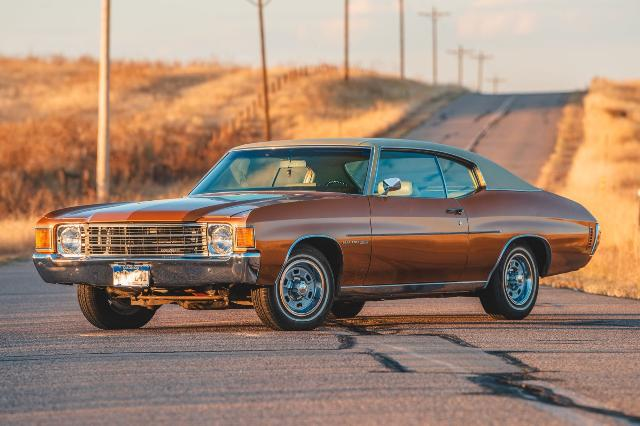chevelle-1972: (32, 138, 602, 331)
